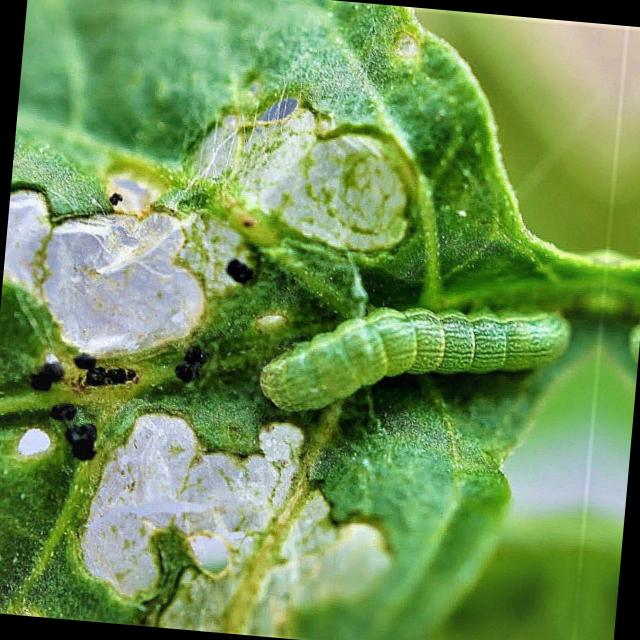Armyworm: (241, 274, 592, 439)
Armyworm_damage: (1, 79, 243, 397), (92, 402, 373, 636), (183, 94, 462, 256)
